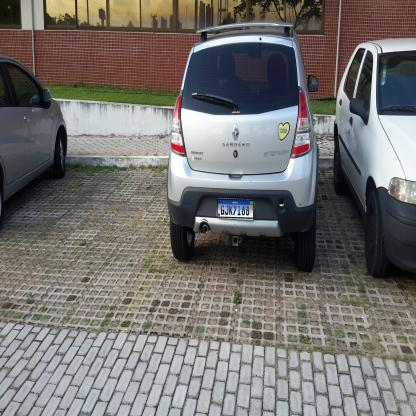PlacaM: (217, 198, 254, 219)
